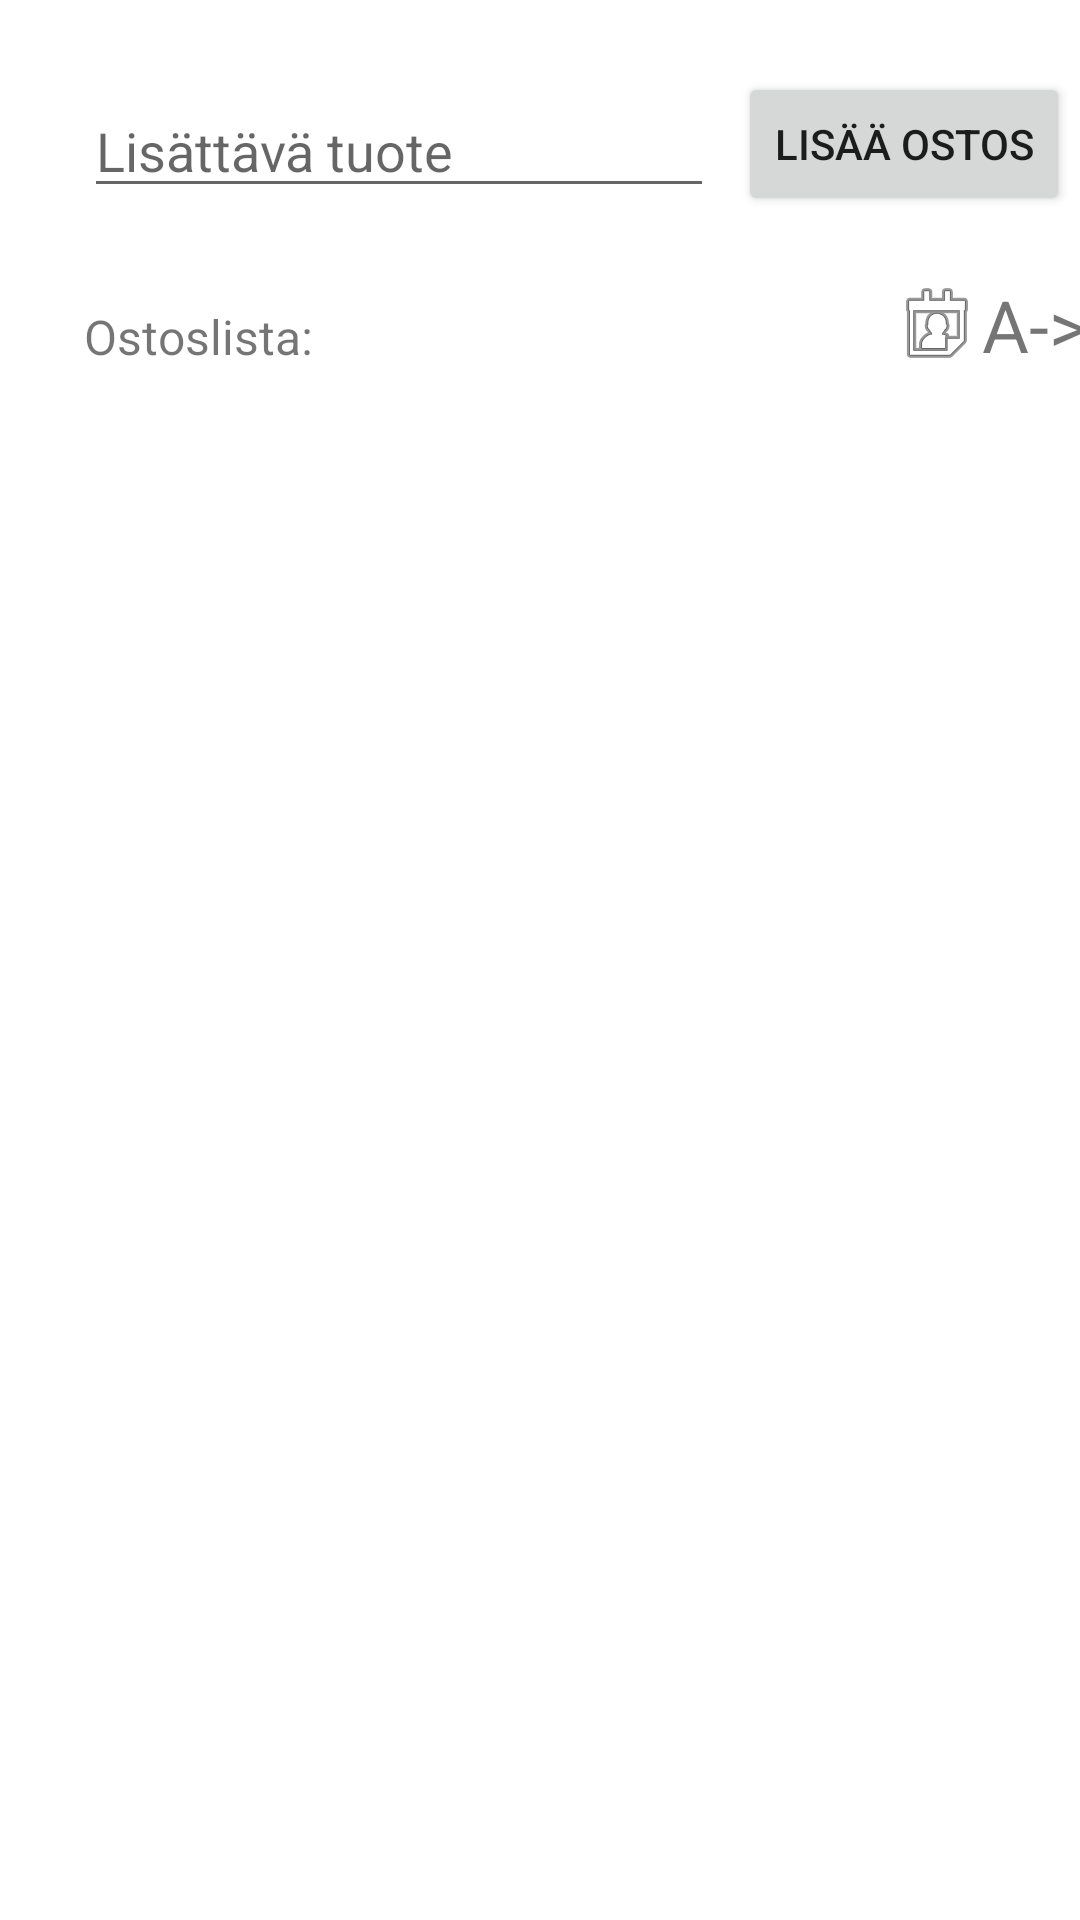

Icon click points for this 1080×1920 phone screenshot, format (x,y):
calendar: (937,323)
